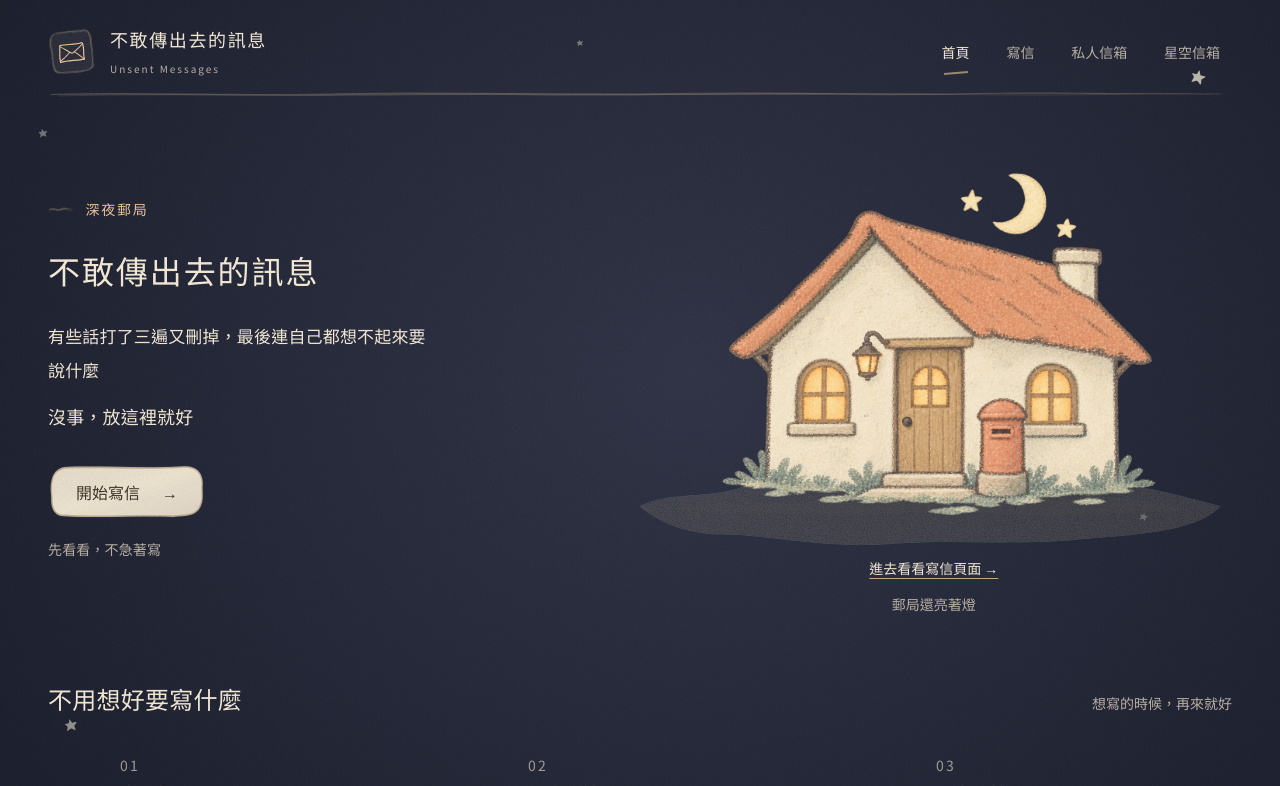
Test case: 路由與基礎導覽（jsdom） › 導覽後聚焦主內容，未開放頁面不假裝已讀取信件
Step 1. Click the link "私人信箱" → click(1099, 52), box [1071, 42, 1127, 62]
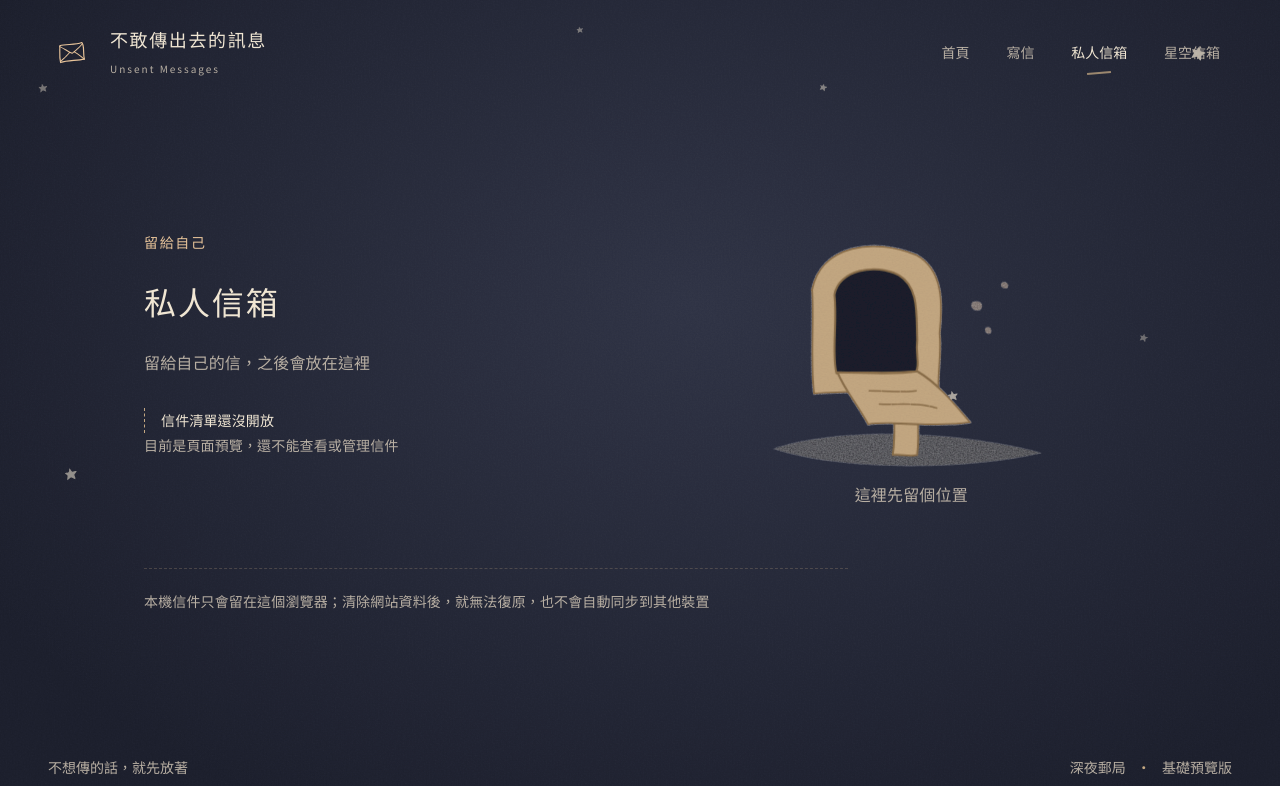
Result: the text "信件清單還沒開放" is shown at [144, 408, 638, 434]
